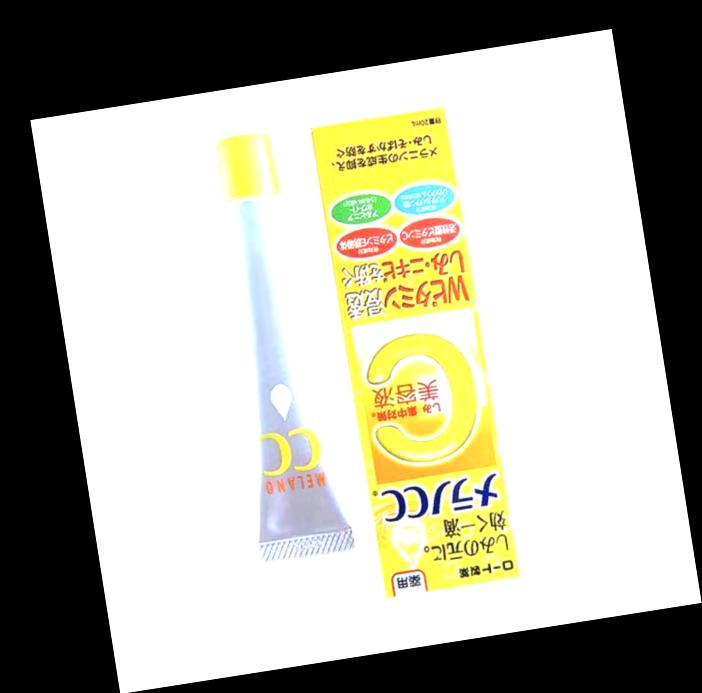cosmetic: (195, 126, 360, 564)
